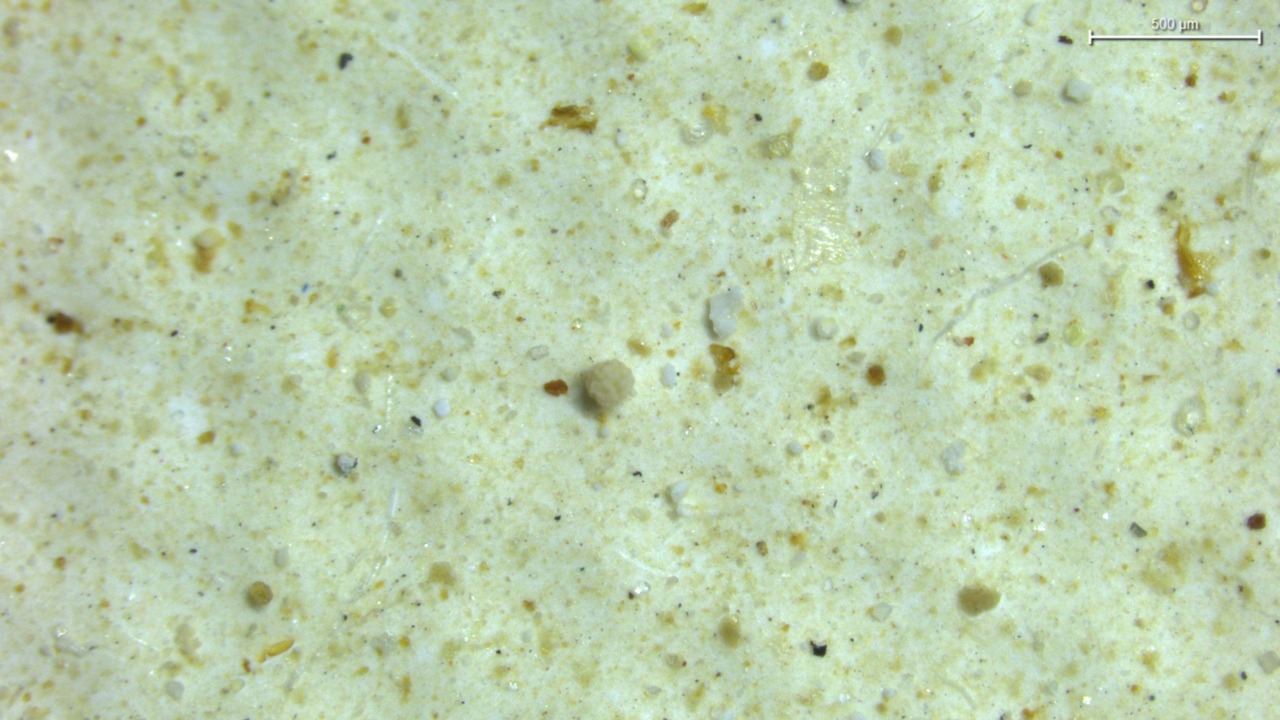microplastic_fragment: (580, 360, 634, 409), (708, 288, 743, 339)
